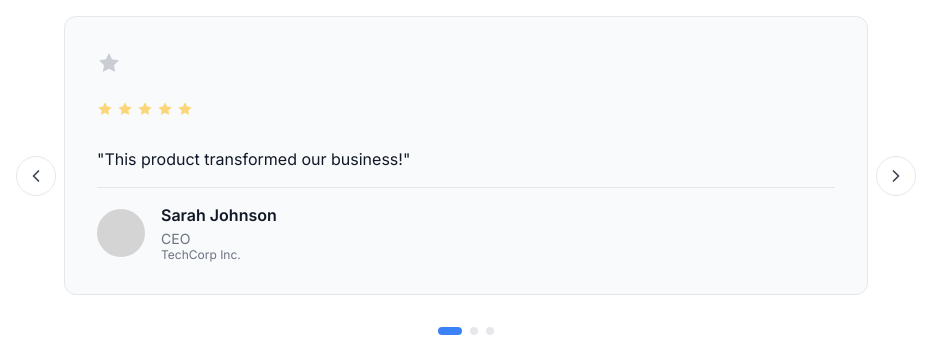
Test case: Testimonial Component › Carousel Navigation › should navigate to previous testimonial
Click the button with test id "testimonial-prev" at {"x": 36, "y": 176}, box [16, 156, 56, 196]
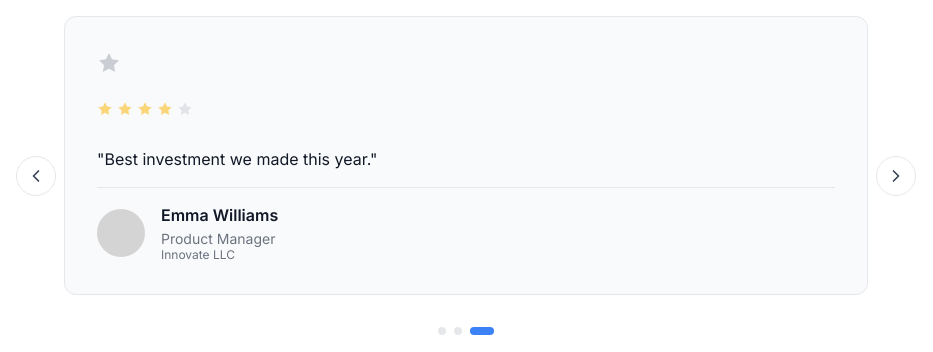
Expected: the text "\"Best investment we made this year.\"" is shown, [97, 149, 377, 169]
